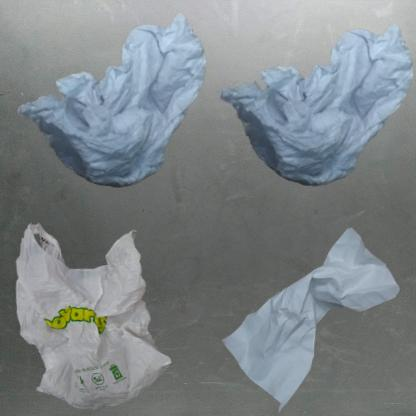bolsa: (10, 213, 177, 416)
papel: (213, 213, 411, 416), (10, 10, 219, 198), (213, 10, 416, 195)
